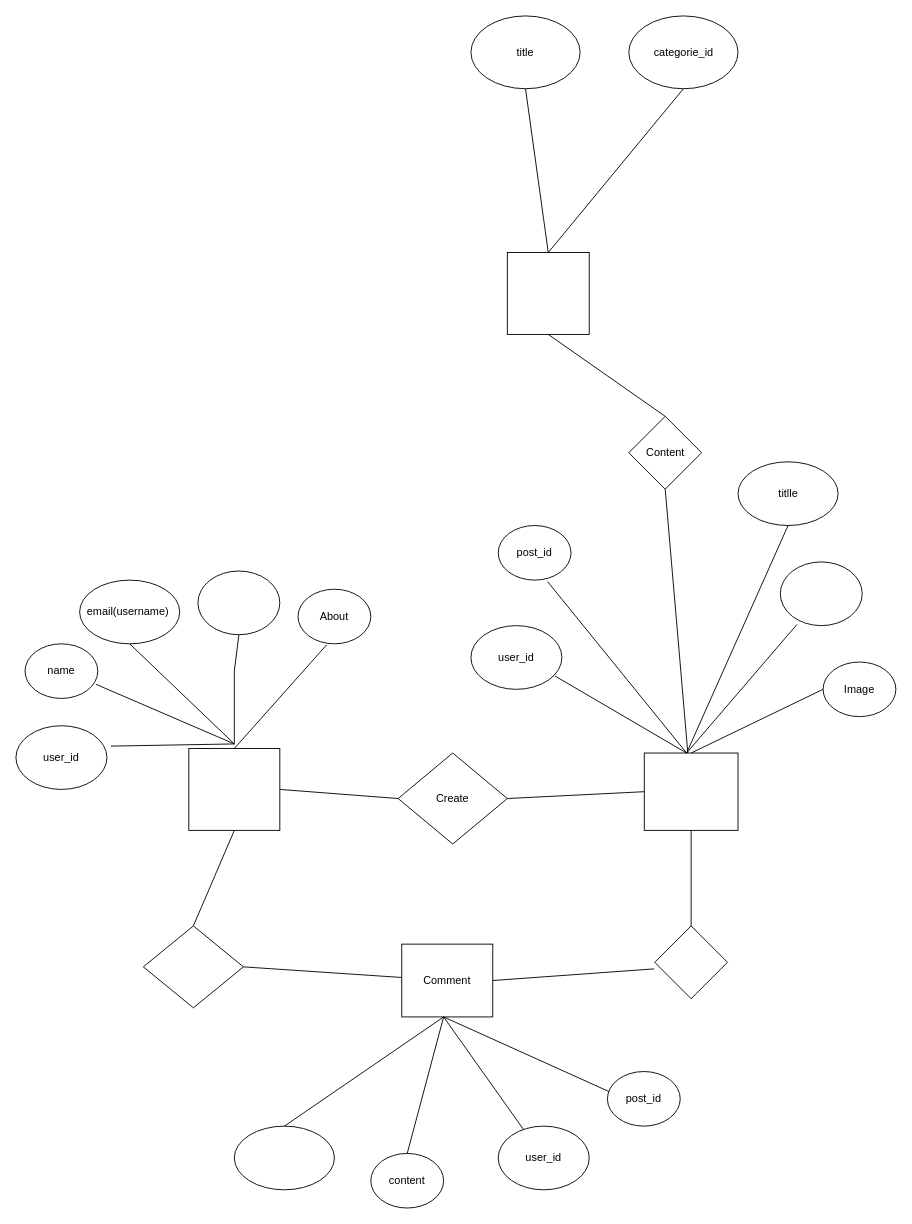
Some shapes in this 912 by 1224 pixel diagram are drawn without their labels. The box of each missing label's shape, as (x1, y1, x2, y2) in pixels:
Category: (506, 252, 589, 334)
comment_id: (233, 1125, 334, 1190)
context: (779, 561, 862, 626)
Do: (142, 925, 243, 1008)
Have: (654, 925, 728, 999)
Password: (197, 570, 280, 635)
Post: (643, 752, 738, 830)
User: (188, 748, 280, 830)
